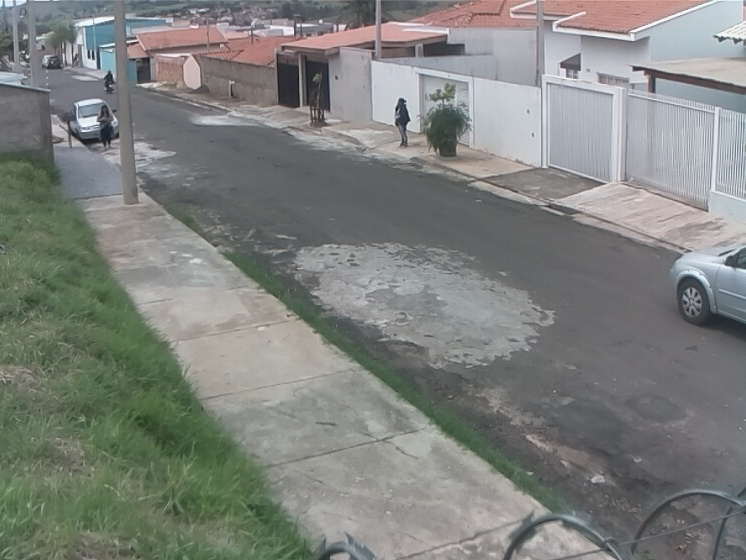person: (96, 103, 115, 151), (393, 97, 410, 148), (101, 69, 117, 92)
